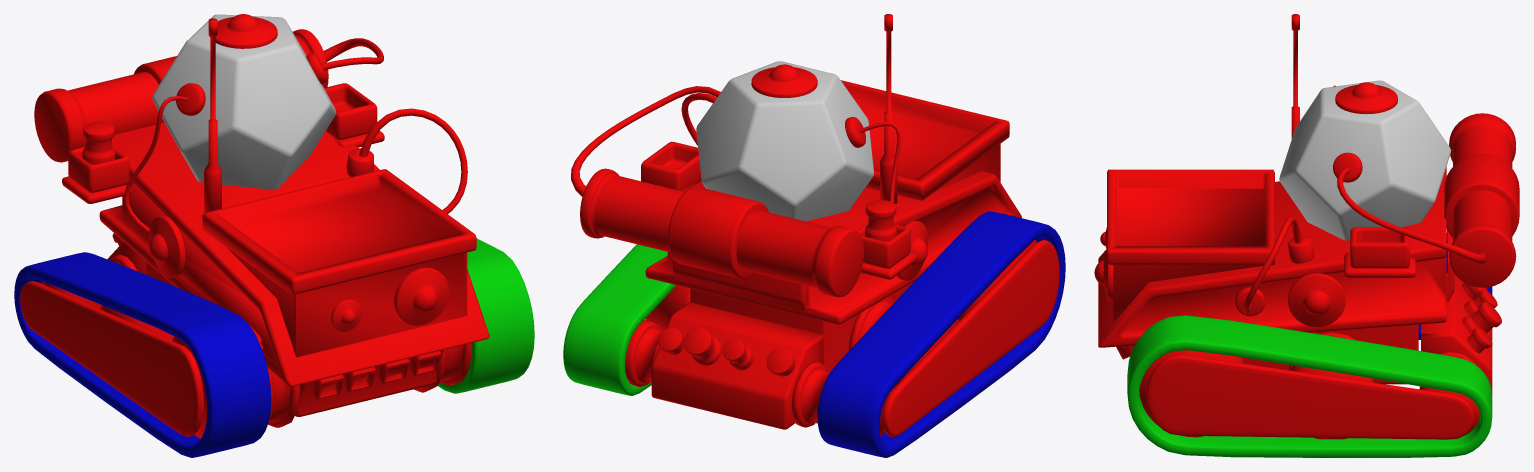
File: DROBOT3.fbx
3 renders of one model, left to right at view 1: azimuth 30°, elevation 25°; view 2: azimuth 150°, elevation 25°; view 3: azimuth 270°, elevation 25°, orthographic. The views are drawn at different scales.
Parts seen in each view (by area): view 1: Z_Low, SM_Chaine_Low (×2), A_Low, SM_DODECHAHEDRE_Low, I_Low, X_Low, B_Low, W_Low, J_Low, K_Low, D_Low, E_Low (+5 smaller); view 2: SM_Chaine_Low (×2), SM_DODECHAHEDRE_Low, X_Low, V_Low, I_Low, Z_Low, A_Low, J_Low, Y_Low, C_Low, W_Low, D_Low (+5 smaller); view 3: SM_Chaine_Low, I_Low, A_Low, Z_Low, SM_DODECHAHEDRE_Low, X_Low, B_Low, Y_Low, V_Low, W_Low, K_Low, J_Low (+5 smaller).
Part boxes in pixels (bbox=[...]): Z_Low: bbox=[202, 169, 476, 357]; SM_Chaine_Low (×2): bbox=[14, 238, 534, 457]; A_Low: bbox=[99, 122, 489, 386]; SM_DODECHAHEDRE_Low: bbox=[152, 14, 336, 189]; I_Low: bbox=[20, 281, 204, 436]; X_Low: bbox=[34, 29, 328, 162]; B_Low: bbox=[149, 14, 448, 331]; W_Low: bbox=[68, 83, 377, 192]; J_Low: bbox=[41, 254, 471, 438]; K_Low: bbox=[124, 38, 467, 233]; D_Low: bbox=[146, 261, 443, 416]; E_Low: bbox=[311, 351, 441, 399]; SM_Chaine_Low (×2): bbox=[563, 211, 1065, 457]; SM_DODECHAHEDRE_Low: bbox=[696, 61, 874, 221]; X_Low: bbox=[580, 168, 864, 297]; V_Low: bbox=[651, 302, 823, 429]; I_Low: bbox=[882, 239, 1059, 436]; Z_Low: bbox=[841, 80, 1009, 200]; A_Low: bbox=[645, 171, 1021, 324]; J_Low: bbox=[625, 222, 1036, 436]; Y_Low: bbox=[668, 186, 768, 278]; C_Low: bbox=[658, 200, 896, 376]; W_Low: bbox=[641, 141, 910, 268]; D_Low: bbox=[690, 281, 914, 372]; SM_Chaine_Low: bbox=[1127, 315, 1492, 457]; I_Low: bbox=[1146, 354, 1474, 439]; A_Low: bbox=[1098, 167, 1446, 347]; Z_Low: bbox=[1107, 169, 1274, 322]; SM_DODECHAHEDRE_Low: bbox=[1279, 80, 1451, 240]; X_Low: bbox=[1449, 113, 1516, 287]; B_Low: bbox=[1094, 82, 1397, 327]; Y_Low: bbox=[1444, 154, 1519, 237]; V_Low: bbox=[1421, 272, 1492, 395]; W_Low: bbox=[1350, 227, 1409, 268]; K_Low: bbox=[1242, 85, 1486, 313]; J_Low: bbox=[1139, 324, 1480, 439].
Bounding box in the file's own units: 87.5 × 93.33 × 106.
